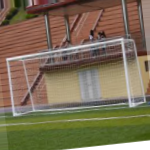goals: (5, 35, 147, 117)
